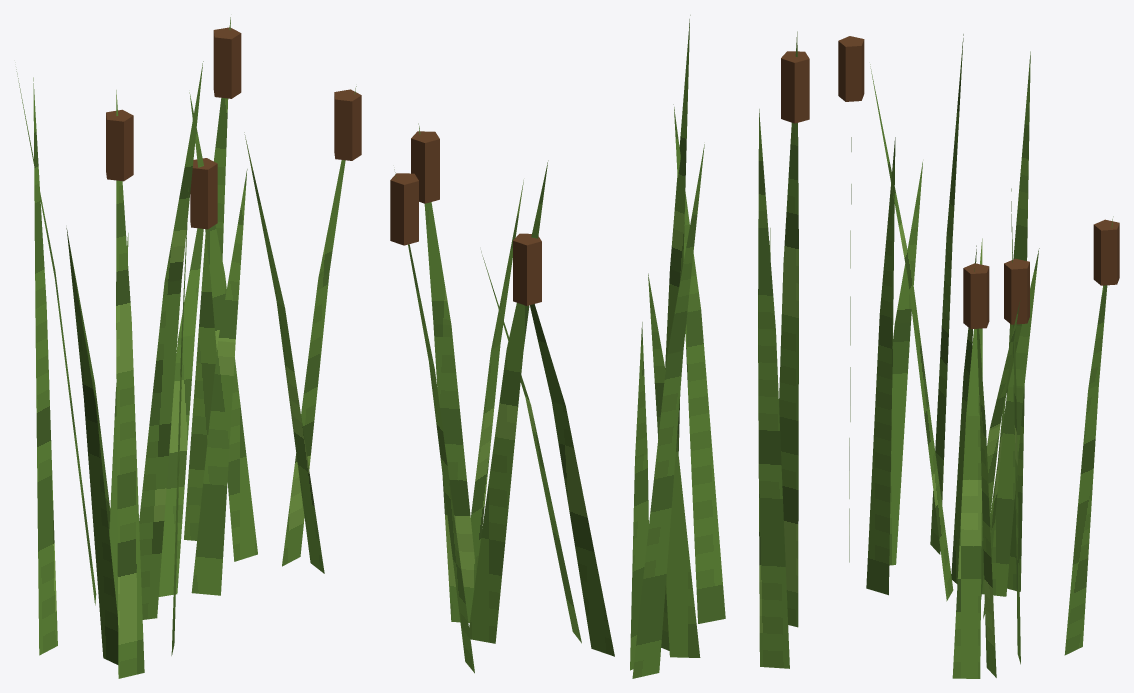
File: reeds1.glb
3 renders of one model, left to right at view 1: azimuth 30°, elevation 25°; view 2: azimuth 150°, elevation 25°; view 3: azimuth 270°, elevation 25°, orthographic. The views are drawn at different scales.
Visible parts, largest first — view 1: reeds1; view 2: reeds1; view 3: reeds1.
Boxes of the visible parts, x1,y1,x2,y2 form: reeds1: (16, 17, 361, 678); reeds1: (390, 15, 809, 678); reeds1: (838, 34, 1119, 678).
Size of the model in its own units: 1.33 by 2.18 by 1.02.
Materials: 2 (1 with a texture image).
